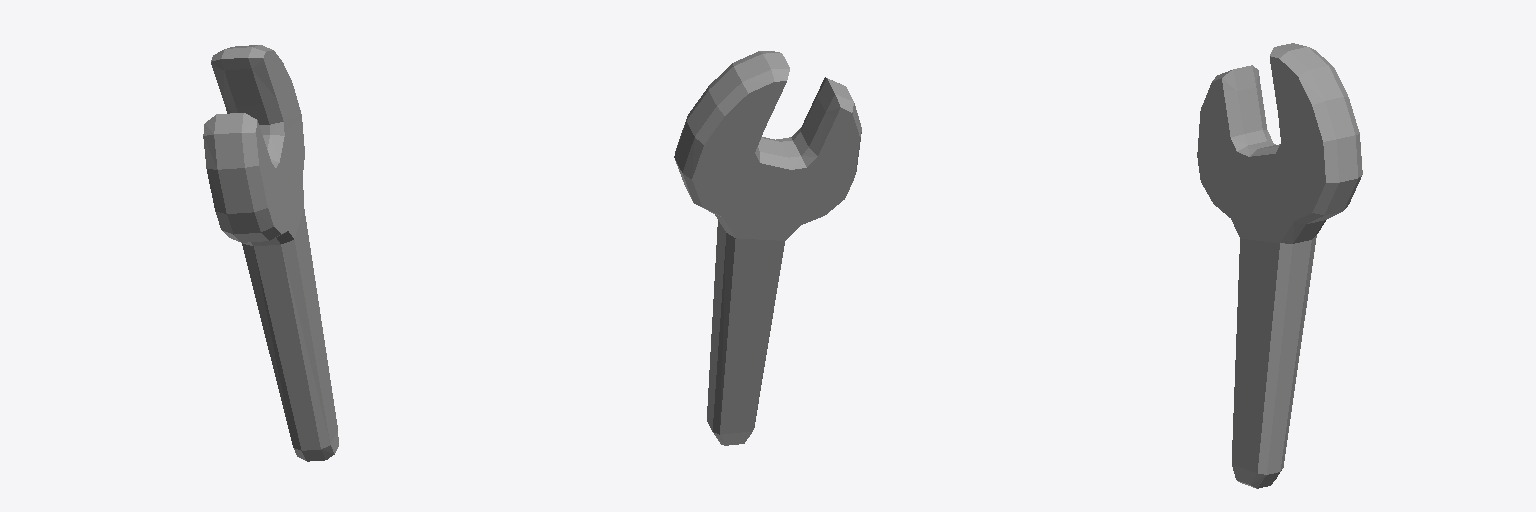
The model's file is spanner.obj.
3 views of the same model, side by side, from view 1: azimuth 30°, elevation 25°; view 2: azimuth 150°, elevation 25°; view 3: azimuth 270°, elevation 25° (orthographic).
Visible parts, largest first — view 1: vsn_mesh_0__mesh_0_.002; view 2: vsn_mesh_0__mesh_0_.002; view 3: vsn_mesh_0__mesh_0_.002.
Part boxes in pixels (x1,y1,x2,y2): vsn_mesh_0__mesh_0_.002: (203,45,338,461); vsn_mesh_0__mesh_0_.002: (674,51,861,445); vsn_mesh_0__mesh_0_.002: (1197,43,1362,488).
Size of the model in its own units: 0.2155 by 0.5967 by 0.218.